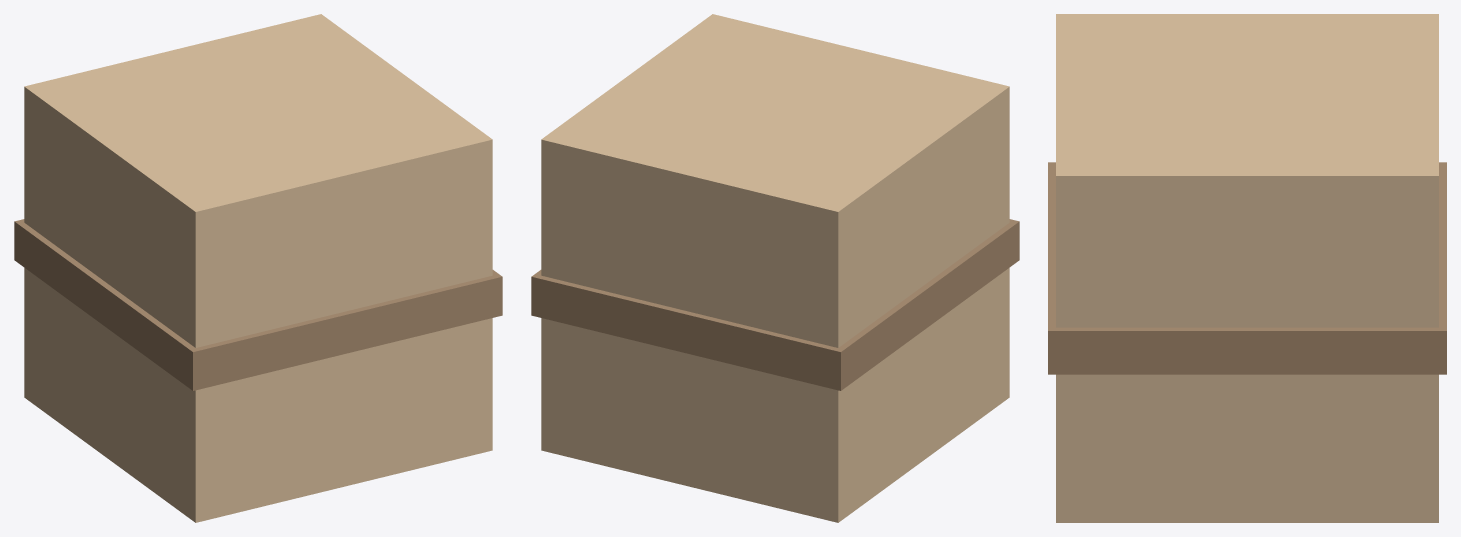
The model's file is Crate.glb.
The picture shows the model from 3 angles, left to right: view 1: azimuth 30°, elevation 25°; view 2: azimuth 150°, elevation 25°; view 3: azimuth 270°, elevation 25°; orthographic projection. The views are drawn at different scales.
Visible parts, largest first — view 1: Crate_1, Crate_0; view 2: Crate_1, Crate_0; view 3: Crate_1, Crate_0.
Part boxes in pixels (left/top/right/bottom): Crate_1: left=24, top=14, right=492, bottom=522; Crate_0: left=14, top=219, right=502, bottom=390; Crate_1: left=541, top=14, right=1009, bottom=522; Crate_0: left=531, top=219, right=1019, bottom=390; Crate_1: left=1056, top=14, right=1438, bottom=522; Crate_0: left=1048, top=162, right=1446, bottom=374.
Bounding box in the file's own units: 2.5 × 2.4 × 2.5.
